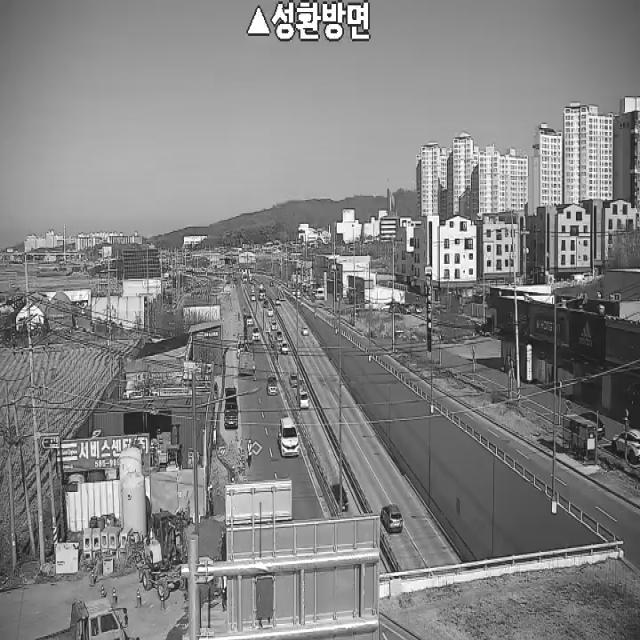Car: (611, 429, 640, 465), (573, 411, 604, 441), (279, 418, 300, 457), (381, 505, 403, 533), (329, 484, 349, 512), (266, 372, 278, 396), (288, 373, 296, 388), (253, 326, 260, 340), (281, 341, 288, 354), (247, 314, 254, 326), (271, 320, 278, 330), (302, 327, 309, 336), (276, 331, 282, 341), (268, 308, 274, 317), (264, 298, 268, 308)
Truck: (33, 597, 127, 640), (223, 388, 237, 428), (296, 380, 309, 410), (259, 283, 266, 300)
